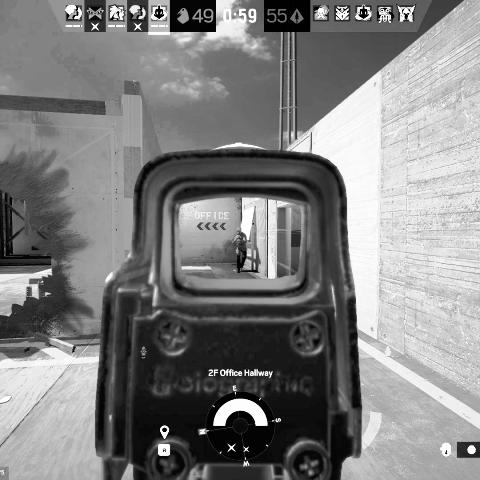Character: (232, 227, 248, 274)
Head: (235, 226, 242, 235)
